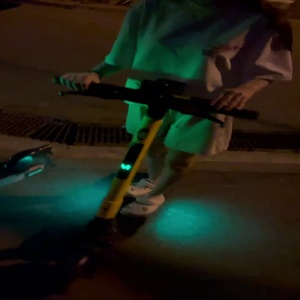human on a scooter: (47, 1, 294, 300)
